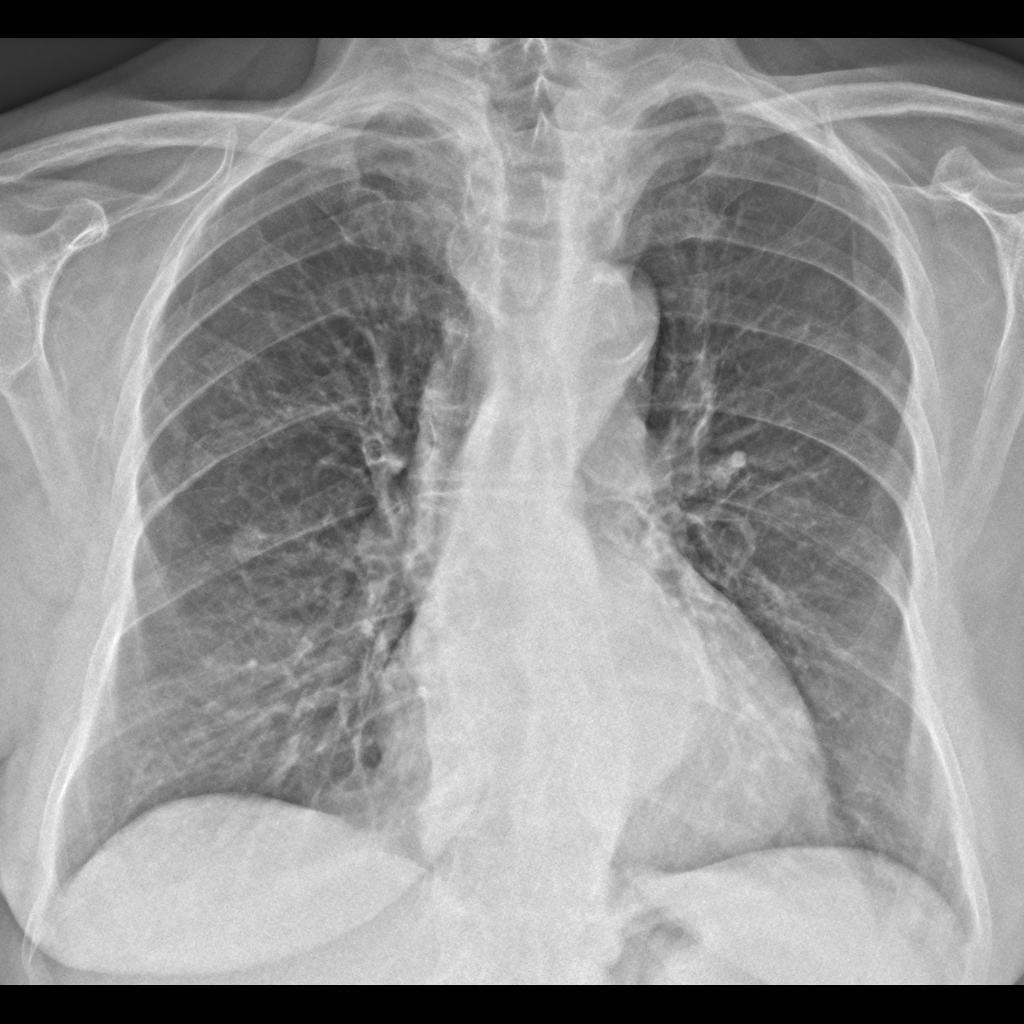Nodule: (225, 523, 274, 571)
